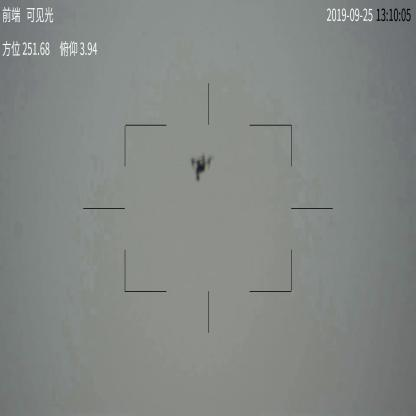uav: (189, 152, 214, 181)
